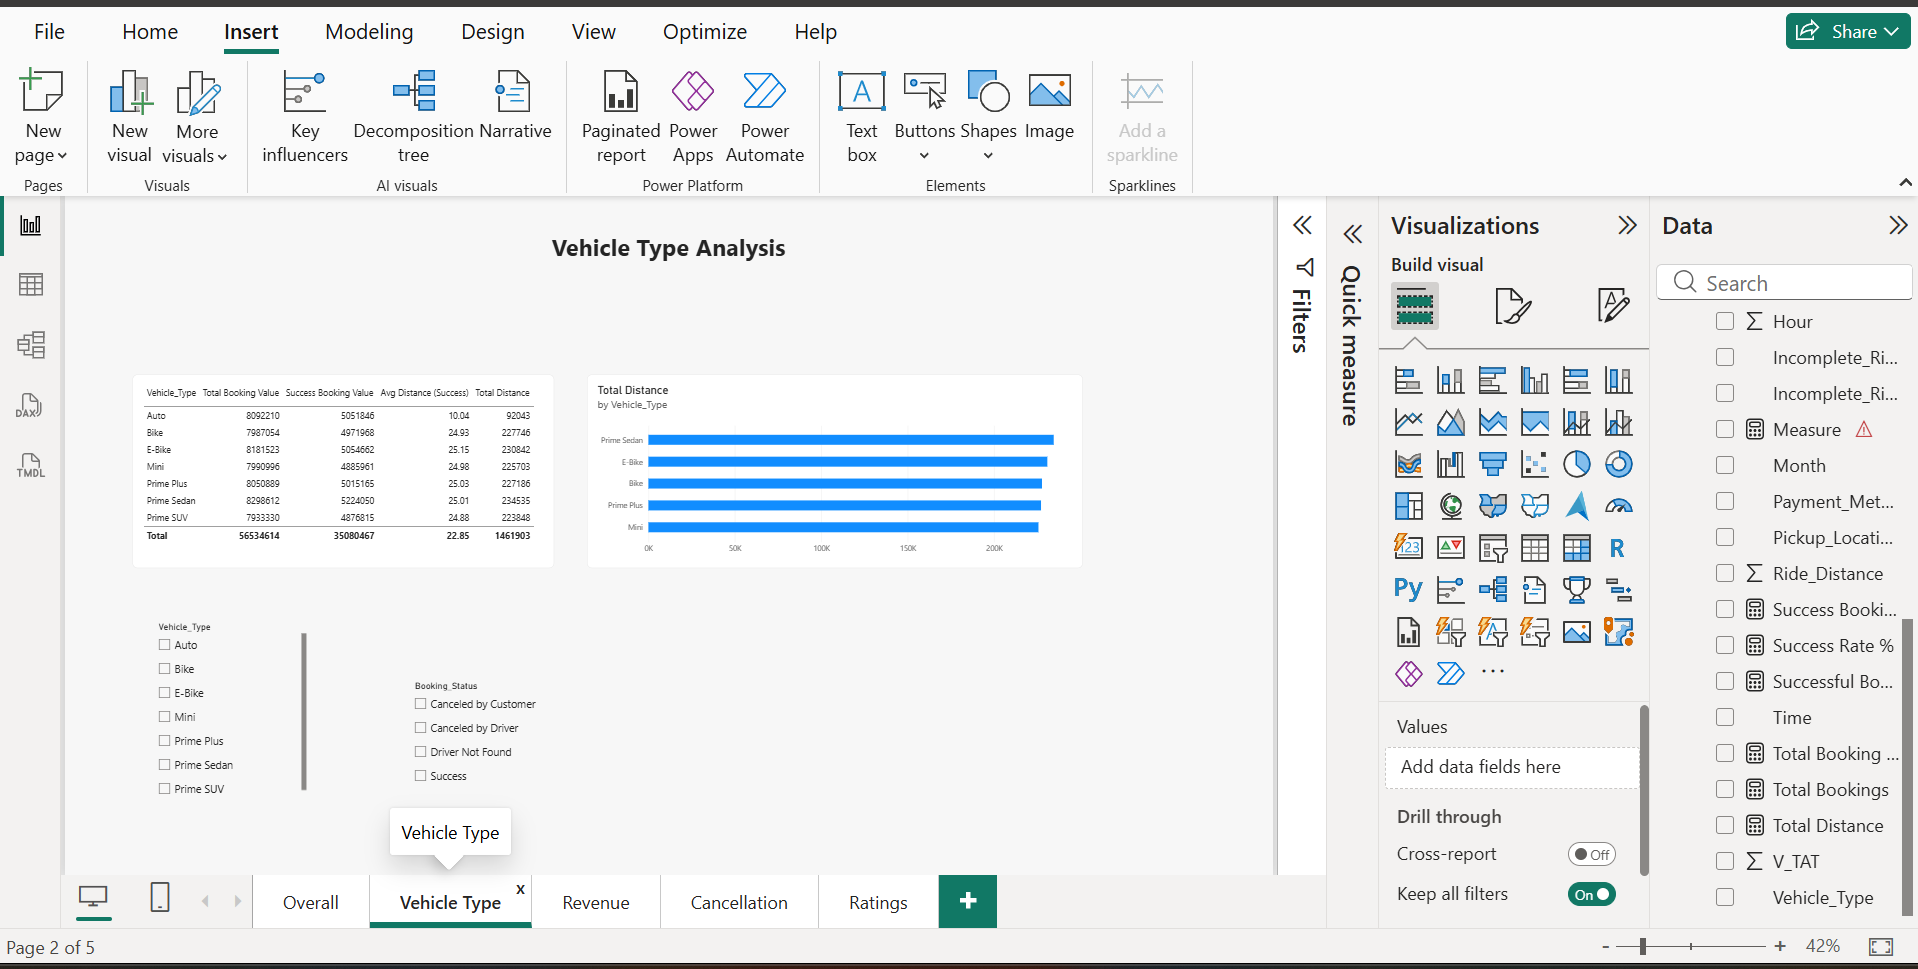

This screenshot's page, from the dashboard's own definition file:
{"tool":"powerbi","page":{"name":"Vehicle Type","canvas":[1920,1080],"ordinal":1},"visuals":[{"type":"tableEx","fields":{"Values":["ola_clean.Vehicle_Type","ola_clean.Total Booking Value","ola_clean.Success Booking Value","ola_clean.Avg Distance (Success)","ola_clean.Total Distance"]},"box":[107.6,283.8,670.4,307.8],"z":0},{"type":"slicer","fields":{"Values":["ola_clean.Vehicle_Type"]},"box":[140.4,678.2,243.4,279.2],"z":1000},{"type":"slicer","fields":{"Values":["ola_clean.Booking_Status"]},"box":[549.7,770.8,281.5,183.7],"z":2000},{"type":"textbox","box":[140.8,0,1639.1,307.8],"z":3000},{"type":"clusteredBarChart","fields":{"Category":["ola_clean.Vehicle_Type"],"Y":["ola_clean.Total Distance"]},"box":[830.6,283.8,788.7,307.7],"z":3001}]}

Visuals, with their boxes on the page's 1920x1080 design canvas (x1, y1, x2, y2). These are canvas units, not pixel positions in the 1918x969 screenshot, which may show the page scaled, cropped or inside an application window:
tableEx - ola_clean.Vehicle_Type x ola_clean.Total Booking Value: left=108, top=284, right=778, bottom=592
slicer - ola_clean.Vehicle_Type: left=140, top=678, right=384, bottom=957
slicer - ola_clean.Booking_Status: left=550, top=771, right=831, bottom=954
textbox: left=141, top=0, right=1780, bottom=308
clusteredBarChart - ola_clean.Vehicle_Type x ola_clean.Total Distance: left=831, top=284, right=1619, bottom=592
